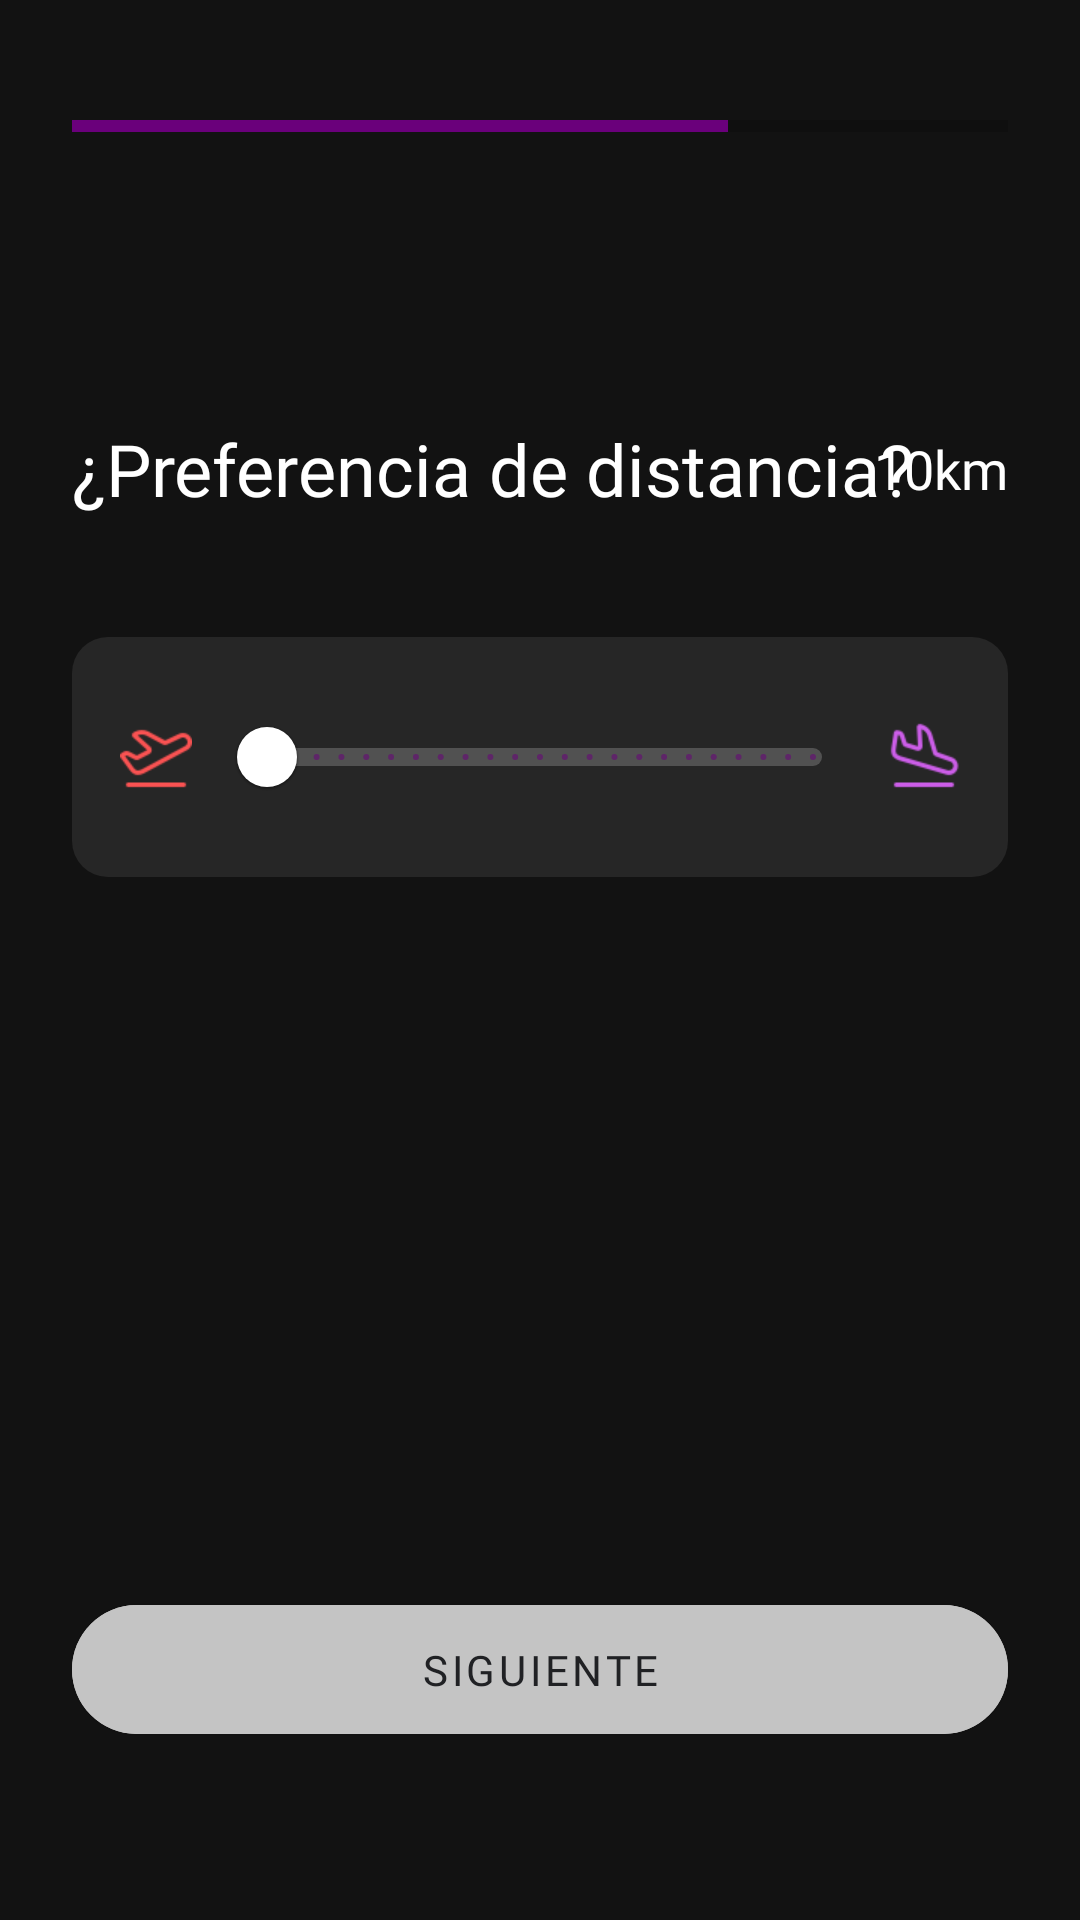

Where icons sit on this 1080×1920 app screen, as Rect(x1, y1, x2, y2):
plane arrival: Rect(890, 723, 959, 788)
plane departure: Rect(120, 729, 192, 788)
